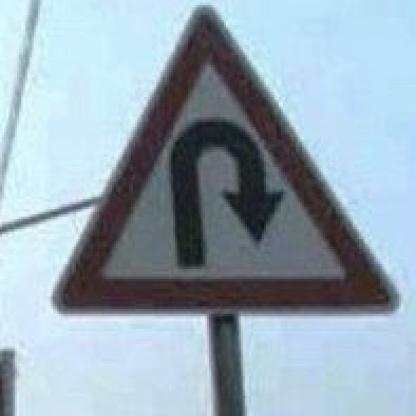U-Turn: (49, 3, 403, 316)
